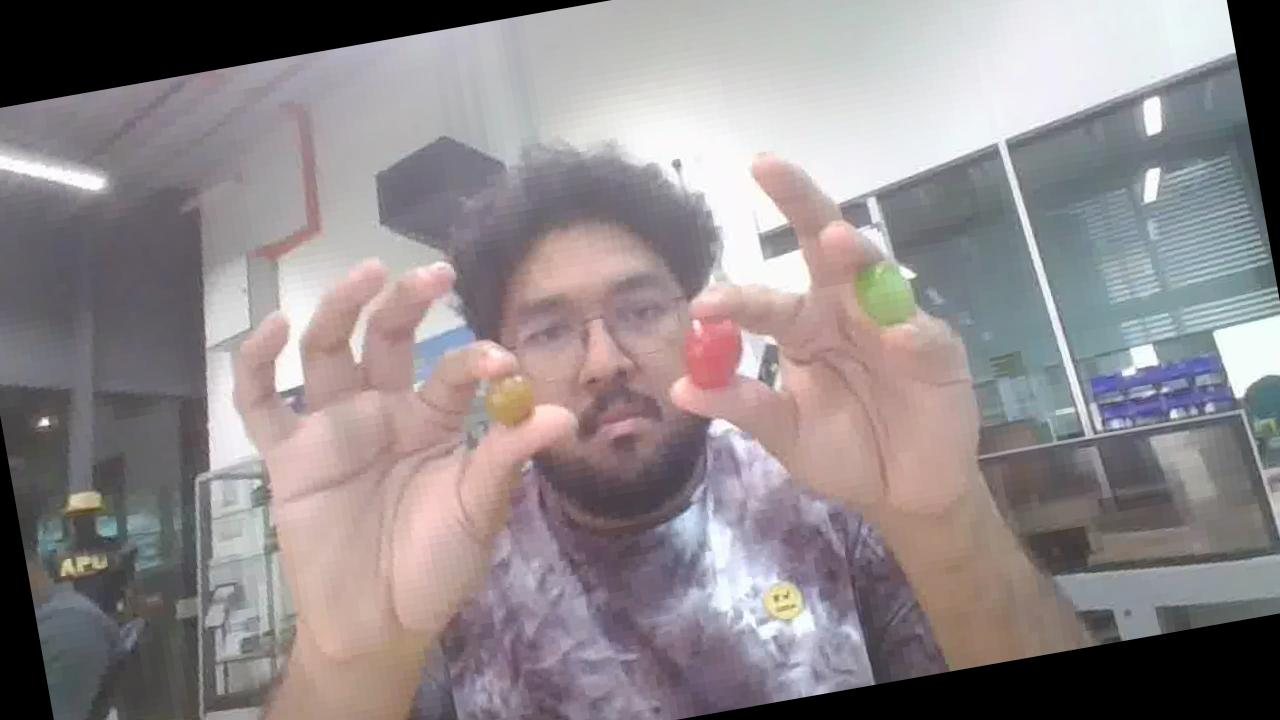green_cherry_tomato: (855, 261, 916, 325)
red_cherry_tomato: (684, 320, 741, 389)
yellow_cherry_tomato: (484, 374, 534, 425)
